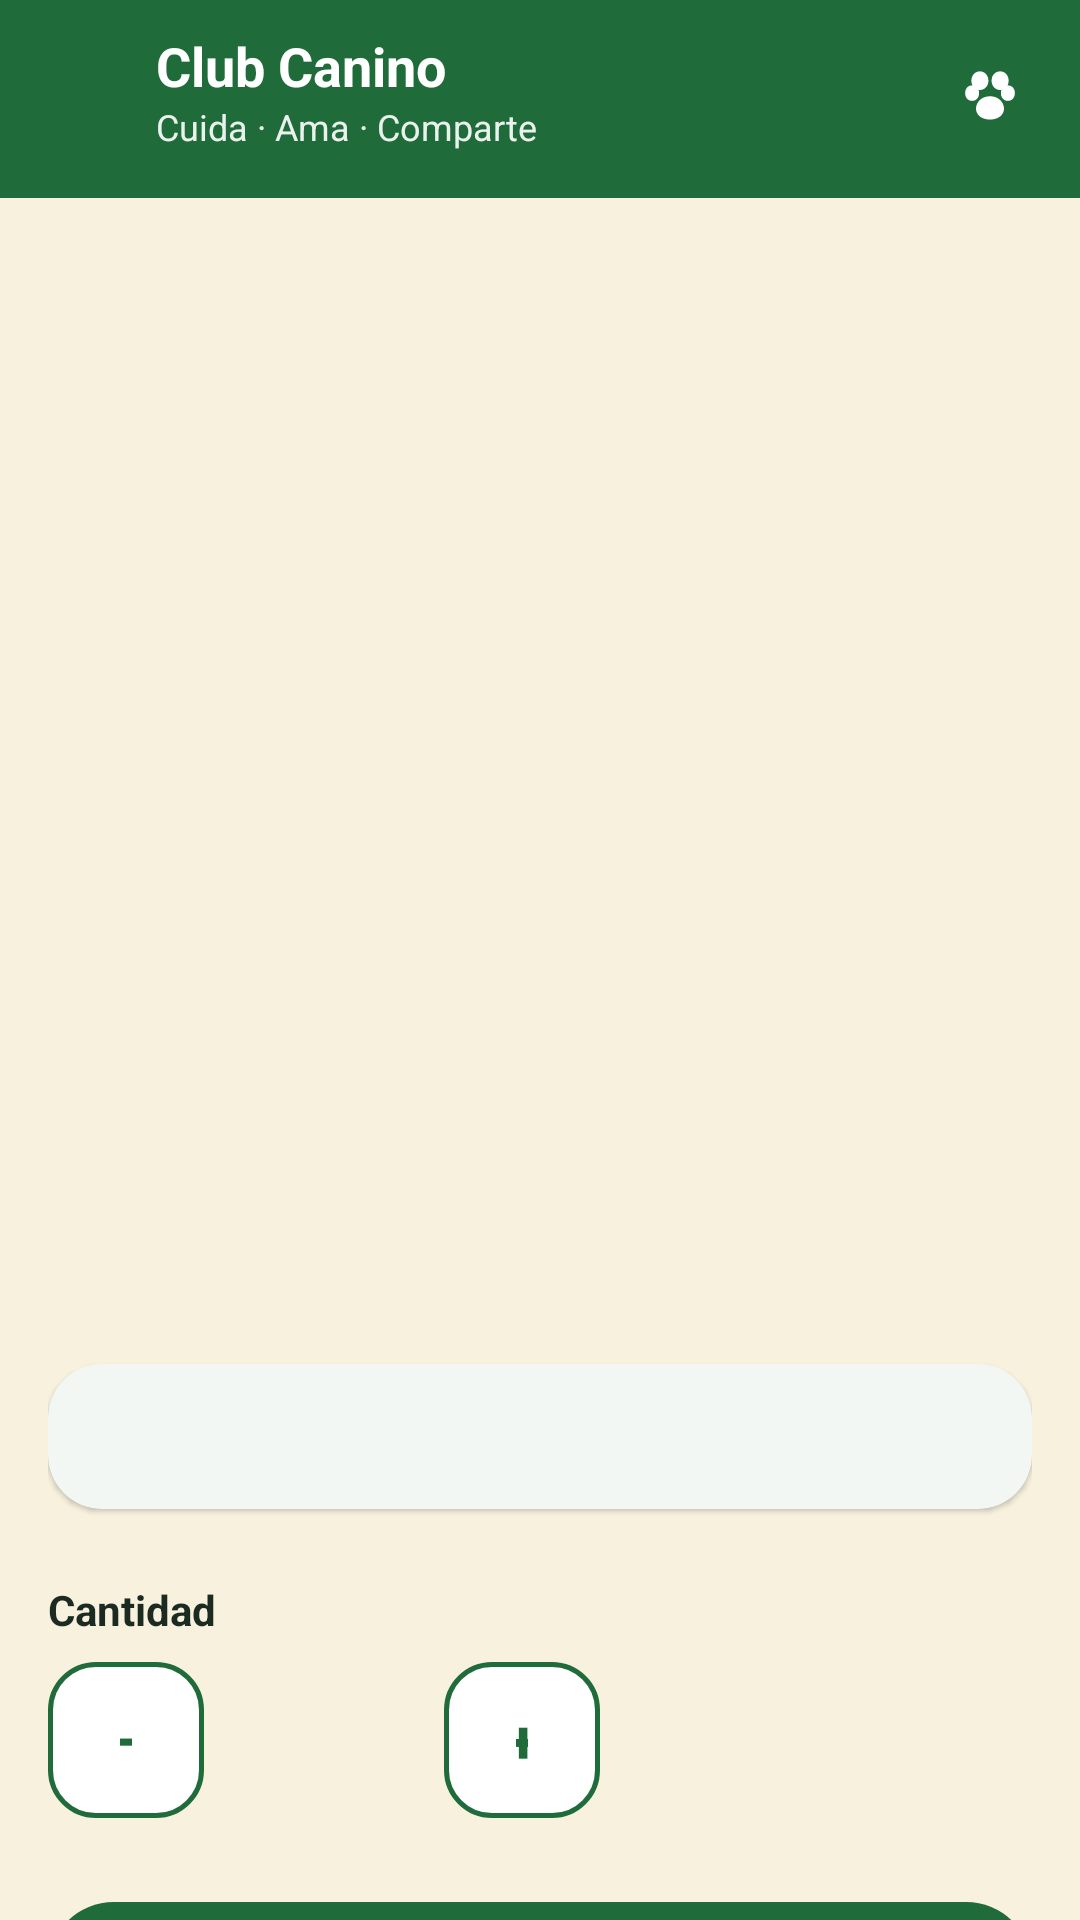

Named icons in this screenshot (1080 × 1920) and their centers, [x,y]:
paw: [990,95]
